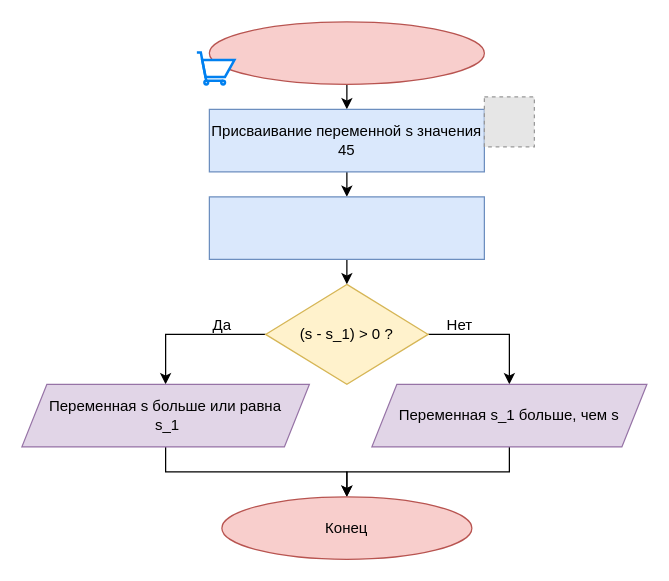
Image size: 669x581. Some labels were removed from this diagram. Grey dashed boxes stand in for pictures. Here are the shapes that lost their labels. From the top down, the box of each, then its label:
(208, 21, 484, 84): Начало
(208, 196, 484, 259): Присваивание переменной s_1 значения 67
